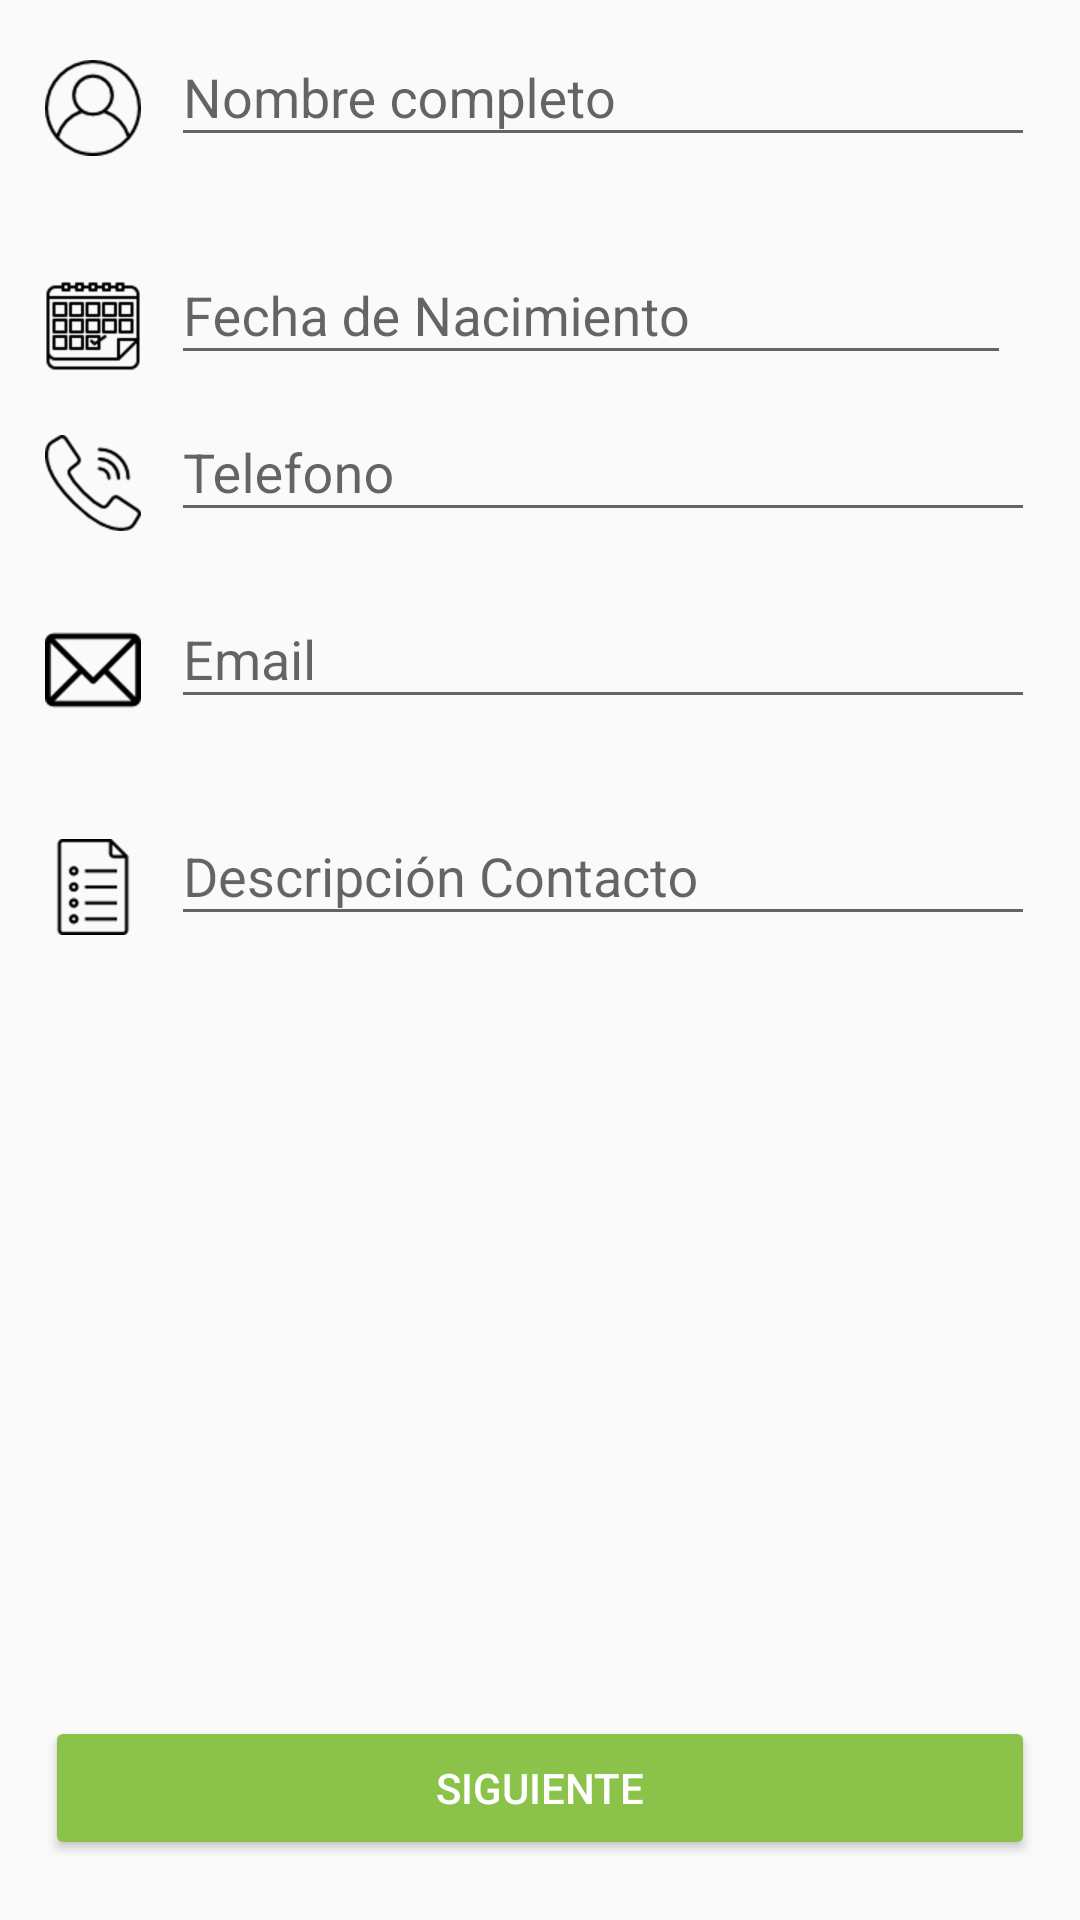

Icons on this 1080×1920 Android screen, each with its box as {"left": x1, "top": y1, "right": x2, "bottom": y2}:
calendar: {"left": 46, "top": 282, "right": 140, "bottom": 370}
list: {"left": 57, "top": 839, "right": 129, "bottom": 935}
phone: {"left": 45, "top": 435, "right": 141, "bottom": 531}
user: {"left": 45, "top": 60, "right": 141, "bottom": 156}
